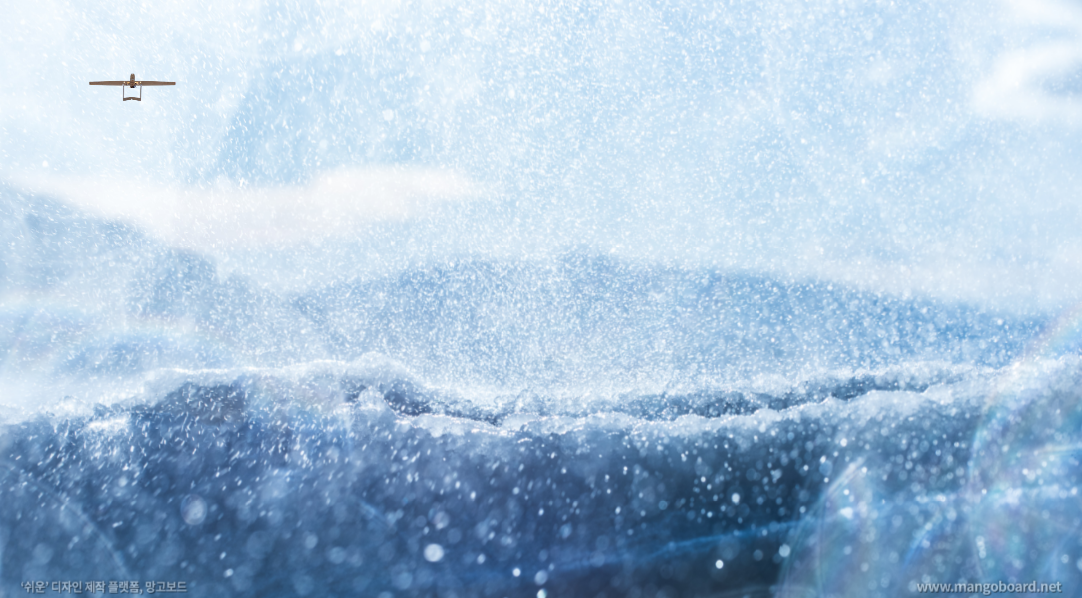military drone: (88, 71, 175, 101)
